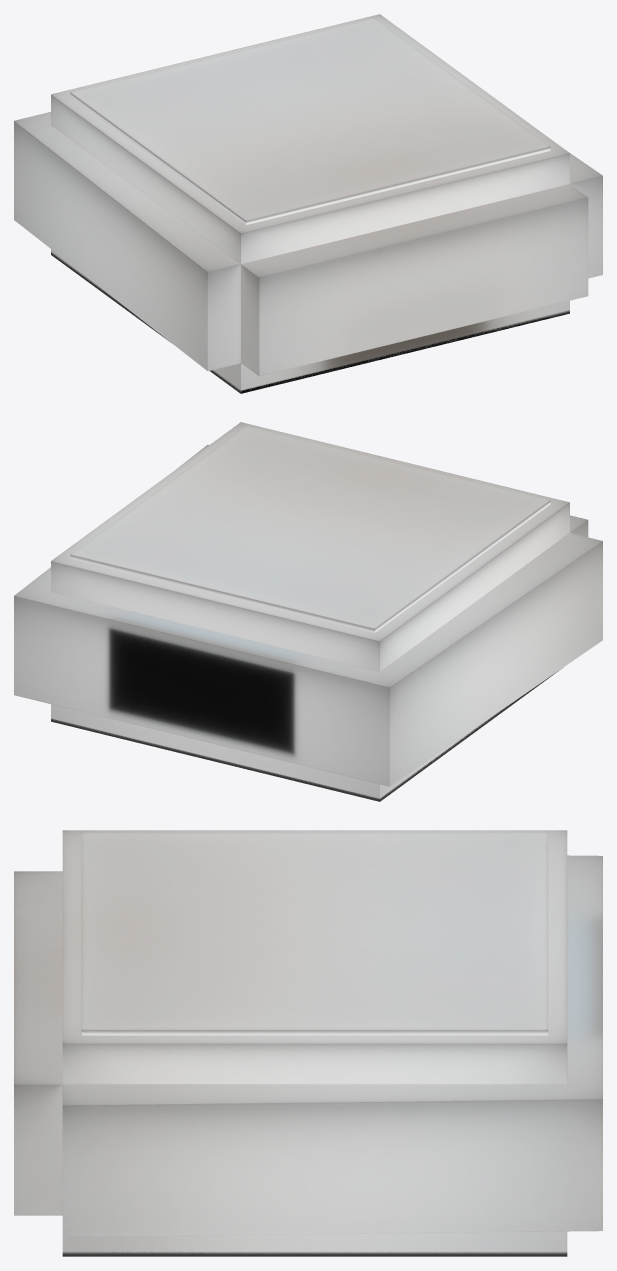
Rendered from land.gltf.
The picture shows the model from 3 angles, top to bottom: view 1: azimuth 30°, elevation 25°; view 2: azimuth 150°, elevation 25°; view 3: azimuth 270°, elevation 25°; orthographic projection. The views are drawn at different scales.
Visible parts, largest first — view 1: ceiling, backside, mainplane; view 2: mainplane, ceiling; view 3: mainplane, ceiling, backside.
Boxes of the visible parts, x1,y1,x2,y2 form: ceiling: [51, 14, 569, 233]; backside: [241, 153, 588, 393]; mainplane: [14, 95, 602, 393]; mainplane: [14, 444, 602, 801]; ceiling: [51, 422, 569, 641]; mainplane: [62, 855, 602, 1256]; ceiling: [62, 830, 567, 1043]; backside: [14, 871, 62, 1215].
Size of the model in its own units: 12.01 by 4.79 by 11.68.
Materials: 6 (5 with a texture image).
